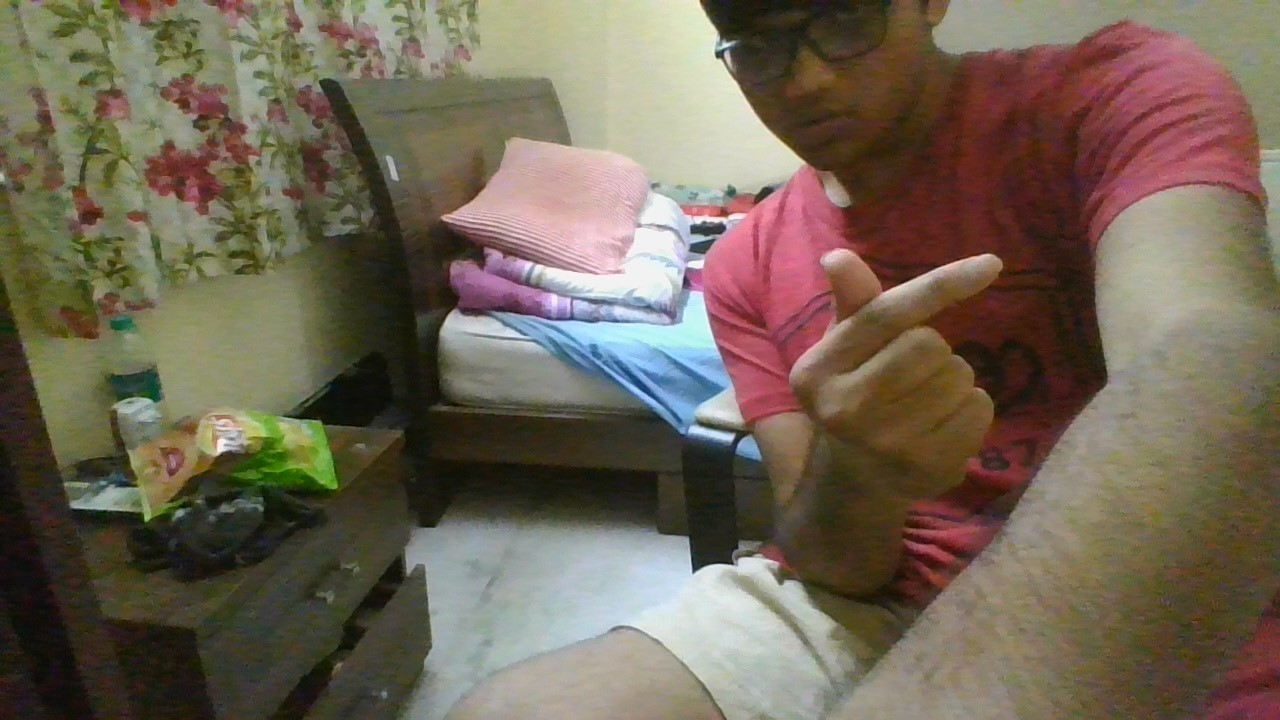eof: (787, 246, 1004, 502)
